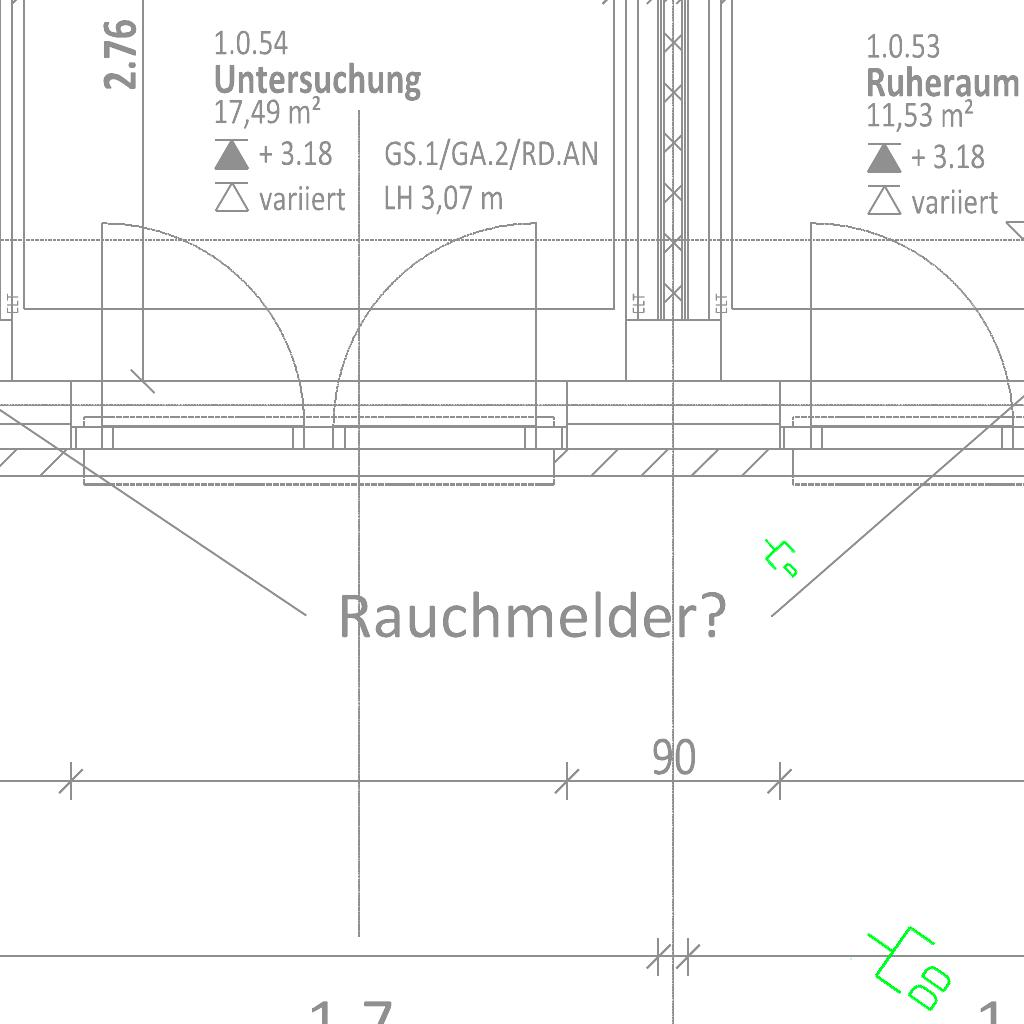Datenanschluss_einfach: (752, 526, 812, 586)
Datenanschluss_zweifach: (845, 904, 970, 1021)
